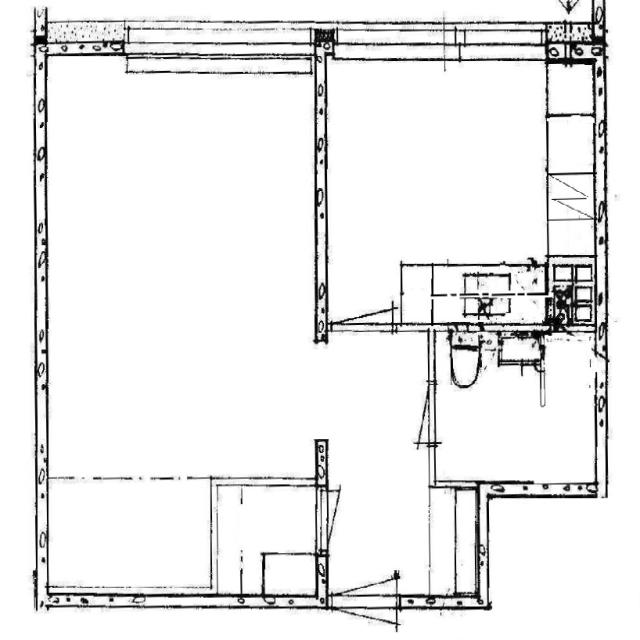zone: (42, 478, 215, 594), (212, 484, 322, 592), (546, 88, 596, 257), (428, 481, 480, 598), (262, 553, 322, 599), (550, 260, 595, 310)
